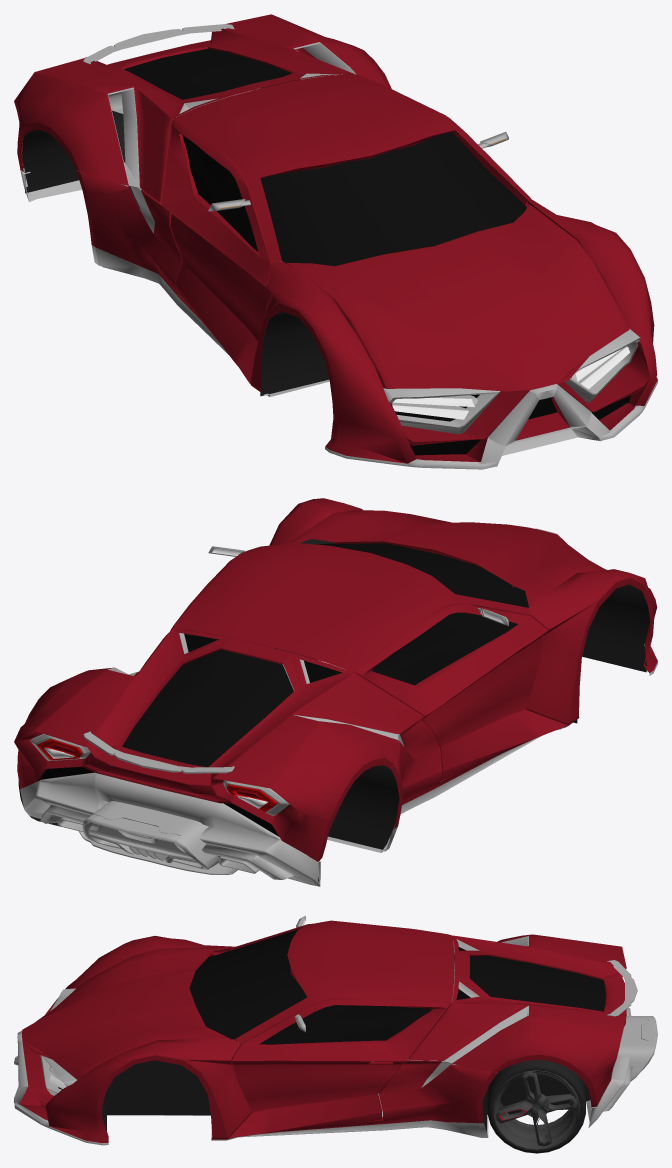
Rendered from Fcar1.fbx.
The picture shows the model from 3 angles, top to bottom: view 1: azimuth 30°, elevation 25°; view 2: azimuth 150°, elevation 25°; view 3: azimuth 270°, elevation 25°; orthographic projection. The views are drawn at different scales.
Visible parts, largest first — view 1: FC2, proppeler; view 2: FC2, proppeler; view 3: FC2, Tyre_RL, proppeler.
Part boxes in pixels (<box>): FC2: <box>14,14,657,469</box>; proppeler: <box>83,24,234,113</box>; FC2: <box>14,498,657,886</box>; proppeler: <box>78,731,237,874</box>; FC2: <box>14,915,632,1145</box>; Tyre_RL: <box>487,1059,585,1153</box>; proppeler: <box>607,960,657,1081</box>.
Size of the model in its own units: 422 by 230 by 944.
